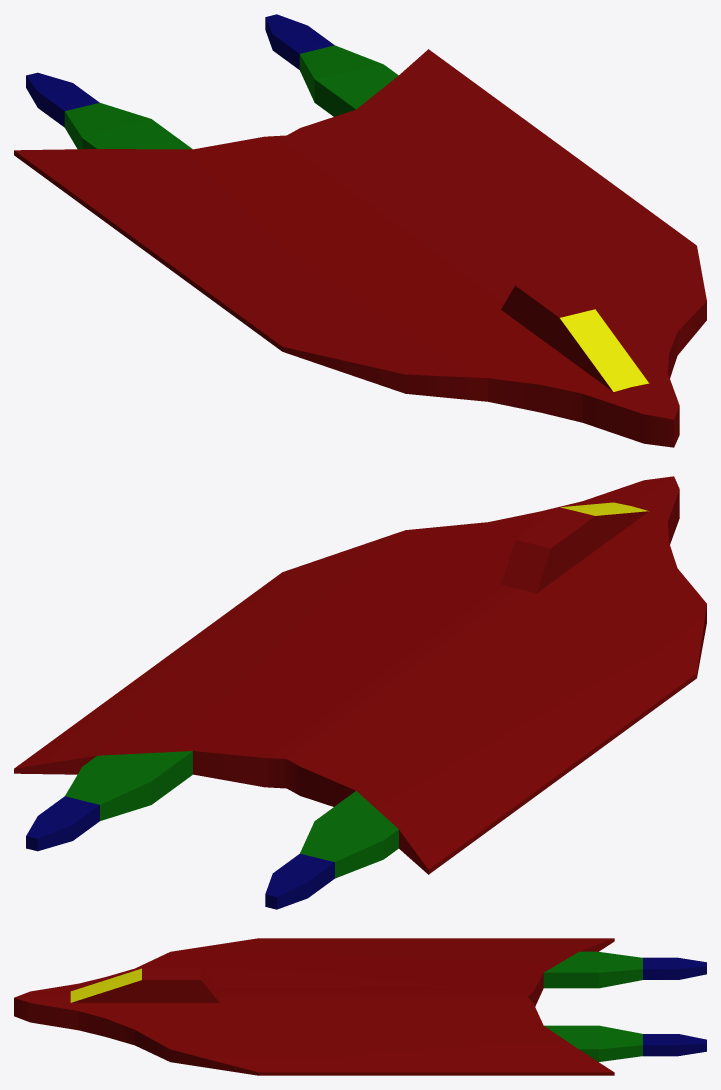
File: Bomber.fbx
The picture shows the model from 3 angles, top to bottom: view 1: azimuth 30°, elevation 25°; view 2: azimuth 150°, elevation 25°; view 3: azimuth 270°, elevation 25°; orthographic projection. The views are drawn at different scales.
Visible parts, largest first — view 1: Bomber; view 2: Bomber; view 3: Bomber.
Boxes of the visible parts, x1=… form: Bomber: x1=14, y1=14, x2=706, y2=447; Bomber: x1=14, y1=476, x2=706, y2=909; Bomber: x1=14, y1=938, x2=706, y2=1075.
Size of the model in its own units: 1.9 by 0.2841 by 4.16.
